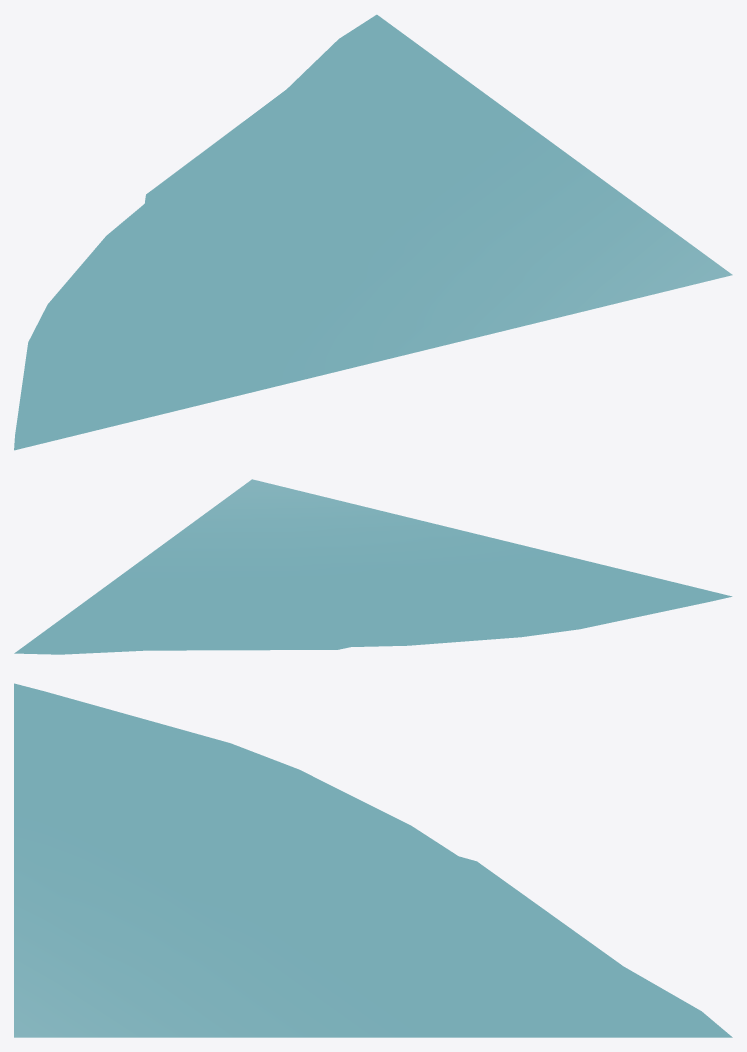
3 views of the same model, one above another, from view 1: azimuth 30°, elevation 25°; view 2: azimuth 150°, elevation 25°; view 3: azimuth 270°, elevation 25° (orthographic). The views are drawn at different scales.
Visible parts, largest first — view 1: city; view 2: city; view 3: city.
Boxes of the visible parts, left/top/right/bottom form: city: left=14, top=14, right=732, bottom=450; city: left=14, top=479, right=732, bottom=654; city: left=14, top=683, right=732, bottom=1037.
Size of the model in its own units: 169 by 0 by 145.
